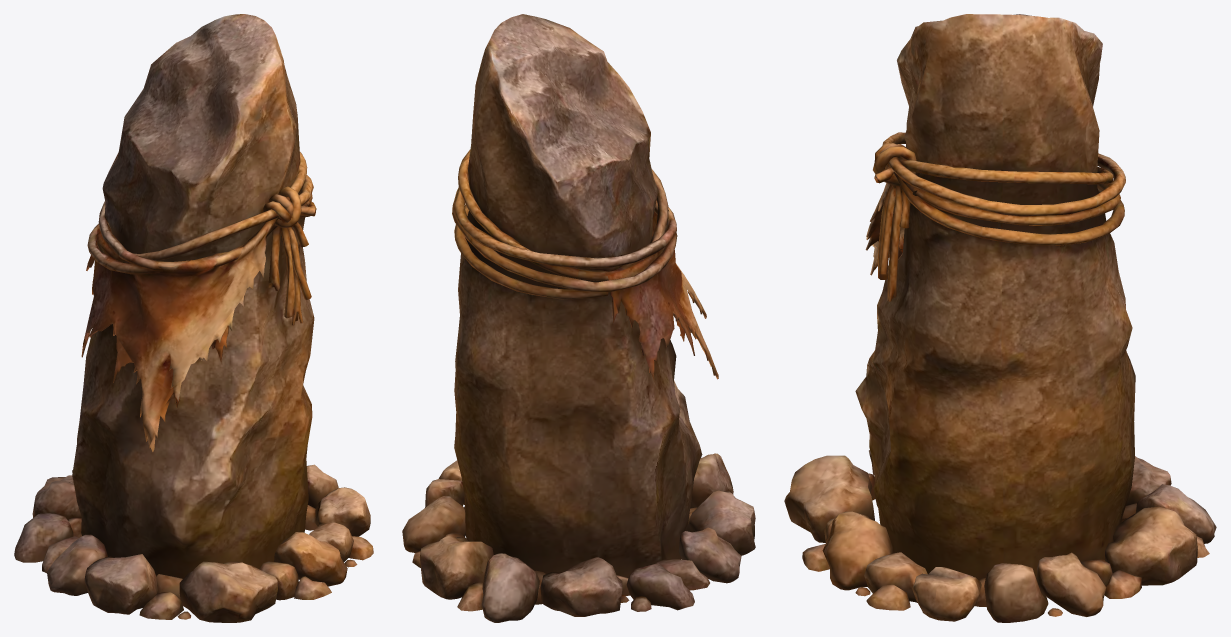
File: altar-t1.glb
3 views of the same model, side by side, from view 1: azimuth 30°, elevation 25°; view 2: azimuth 150°, elevation 25°; view 3: azimuth 270°, elevation 25° (orthographic). The views are drawn at different scales.
Parts seen in each view (by area): view 1: tripo_node_5999de0b-66f1-4a7c-9988-8c65cde1211d; view 2: tripo_node_5999de0b-66f1-4a7c-9988-8c65cde1211d; view 3: tripo_node_5999de0b-66f1-4a7c-9988-8c65cde1211d.
Boxes of the visible parts, box(x1,y1,x2,y2) form: tripo_node_5999de0b-66f1-4a7c-9988-8c65cde1211d: box(14, 14, 373, 622); tripo_node_5999de0b-66f1-4a7c-9988-8c65cde1211d: box(402, 14, 755, 622); tripo_node_5999de0b-66f1-4a7c-9988-8c65cde1211d: box(784, 14, 1216, 622).
Bounding box in the file's own units: 0.6275 × 0.9995 × 0.6831.
Materials: 1 (1 with a texture image).
